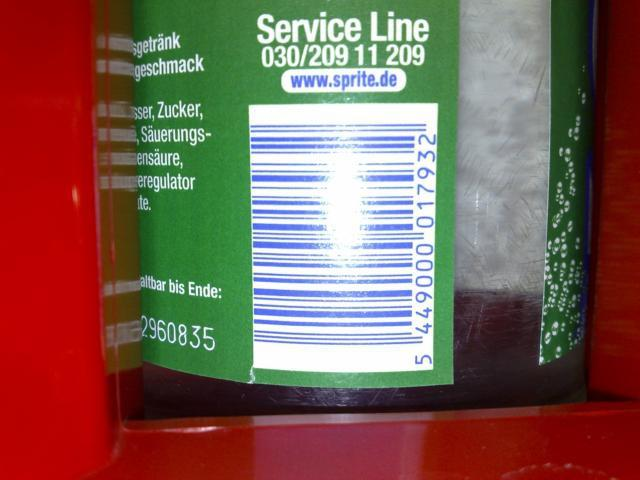Barcode: (248, 103, 439, 369)
